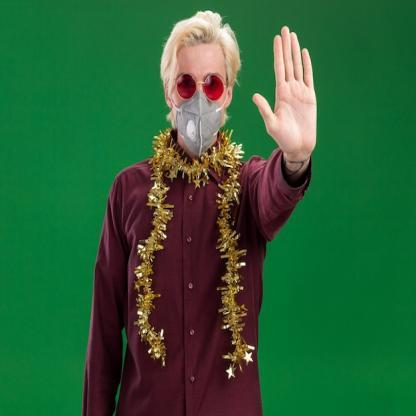stop: (251, 24, 325, 162)
